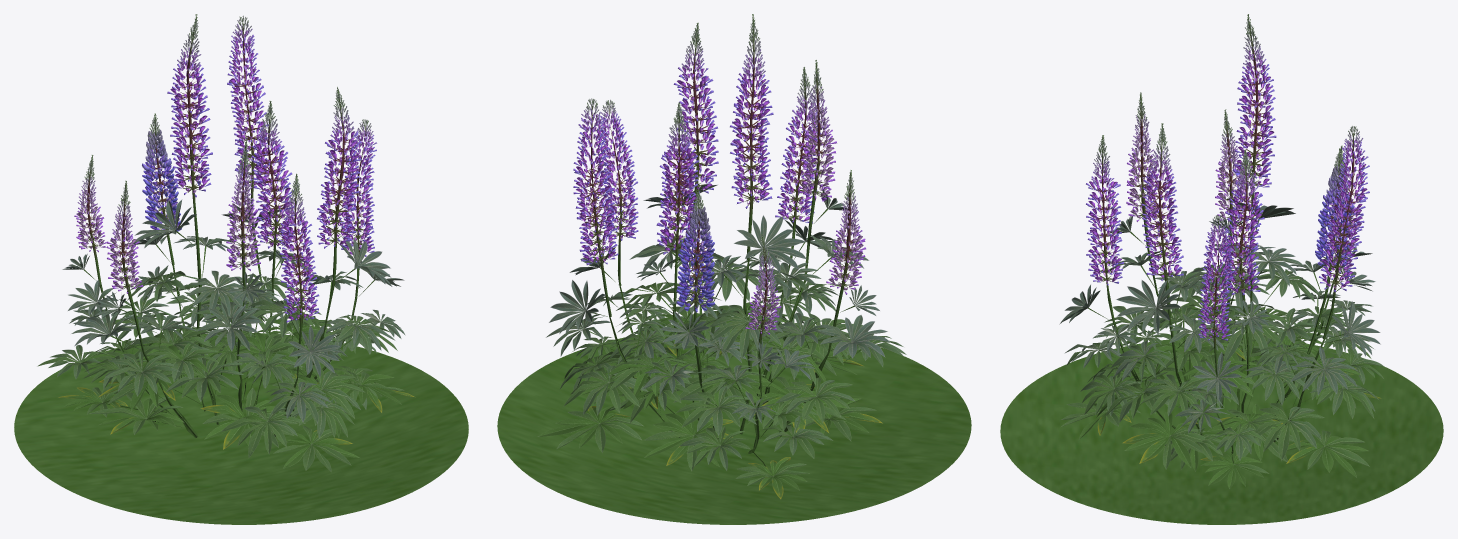
Rendered from realistic_hd_large-leaved_lupine_918.glb.
The picture shows the model from 3 angles, left to right: view 1: azimuth 30°, elevation 25°; view 2: azimuth 150°, elevation 25°; view 3: azimuth 270°, elevation 25°; orthographic projection. The views are drawn at different scales.
Parts seen in each view (by area): view 1: EcoSuelo, Lupinus_polyphyllus_HD_Lupinus leaflet 02_0, Lupinus_polyphyllus_HD_Lupinus leaflet 03_0, Lupinus_polyphyllus_HD_Lupin pet U 01_0, Lupinus_polyphyllus_HD_Lupinus leaflet 04_0, Lupinus_polyphyllus_HD_Lupinus bloom stalk 01_0, Lupinus_polyphyllus_HD_Lupinus leaflet 05_0, Lupinus_polyphyllus_HD_Lupinus leaflet 01_0, Lupinus_polyphyllus_HD_Lupin pet D 01_0, Lupinus_polyphyllus_HD_Lupin pet U 01 purple_0, Lupinus_polyphyllus_HD_Lupinus stalk 01_0, Lupinus_polyphyllus_HD_Lupinus leaflet 01 y1_0 (+10 smaller); view 2: EcoSuelo, Lupinus_polyphyllus_HD_Lupinus leaflet 02_0, Lupinus_polyphyllus_HD_Lupinus leaflet 03_0, Lupinus_polyphyllus_HD_Lupin pet U 01_0, Lupinus_polyphyllus_HD_Lupinus leaflet 05_0, Lupinus_polyphyllus_HD_Lupinus leaflet 04_0, Lupinus_polyphyllus_HD_Lupinus bloom stalk 01_0, Lupinus_polyphyllus_HD_Lupinus leaflet 01_0, Lupinus_polyphyllus_HD_Lupin pet D 01_0, Lupinus_polyphyllus_HD_Lupin pet U 01 purple_0, Lupinus_polyphyllus_HD_Lupinus stalk 01_0, Lupinus_polyphyllus_HD_Lupinus leaflet 01 y1_0 (+10 smaller); view 3: EcoSuelo, Lupinus_polyphyllus_HD_Lupinus leaflet 02_0, Lupinus_polyphyllus_HD_Lupinus leaflet 03_0, Lupinus_polyphyllus_HD_Lupin pet U 01_0, Lupinus_polyphyllus_HD_Lupinus leaflet 04_0, Lupinus_polyphyllus_HD_Lupinus leaflet 05_0, Lupinus_polyphyllus_HD_Lupinus leaflet 01_0, Lupinus_polyphyllus_HD_Lupinus bloom stalk 01_0, Lupinus_polyphyllus_HD_Lupin pet D 01_0, Lupinus_polyphyllus_HD_Lupinus stalk 01_0, Lupinus_polyphyllus_HD_Lupinus leaflet 01 y1_0, Lupinus_polyphyllus_HD_Lupin pet U 01 purple_0 (+8 smaller).
Boxes of the visible parts, bbox=[...] form: EcoSuelo: bbox=[14, 333, 468, 524]; Lupinus_polyphyllus_HD_Lupinus leaflet 02_0: bbox=[37, 287, 404, 471]; Lupinus_polyphyllus_HD_Lupinus leaflet 03_0: bbox=[48, 271, 395, 438]; Lupinus_polyphyllus_HD_Lupin pet U 01_0: bbox=[170, 37, 373, 319]; Lupinus_polyphyllus_HD_Lupinus leaflet 04_0: bbox=[69, 236, 405, 422]; Lupinus_polyphyllus_HD_Lupinus bloom stalk 01_0: bbox=[82, 18, 366, 356]; Lupinus_polyphyllus_HD_Lupinus leaflet 05_0: bbox=[62, 199, 404, 377]; Lupinus_polyphyllus_HD_Lupinus leaflet 01_0: bbox=[64, 294, 401, 468]; Lupinus_polyphyllus_HD_Lupin pet D 01_0: bbox=[167, 41, 376, 322]; Lupinus_polyphyllus_HD_Lupin pet U 01 purple_0: bbox=[77, 201, 258, 290]; Lupinus_polyphyllus_HD_Lupinus stalk 01_0: bbox=[99, 247, 356, 437]; Lupinus_polyphyllus_HD_Lupinus leaflet 01 y1_0: bbox=[58, 341, 414, 449]; EcoSuelo: bbox=[497, 327, 971, 524]; Lupinus_polyphyllus_HD_Lupinus leaflet 02_0: bbox=[557, 262, 876, 485]; Lupinus_polyphyllus_HD_Lupinus leaflet 03_0: bbox=[559, 253, 906, 470]; Lupinus_polyphyllus_HD_Lupin pet U 01_0: bbox=[576, 66, 817, 262]; Lupinus_polyphyllus_HD_Lupinus leaflet 05_0: bbox=[549, 184, 890, 379]; Lupinus_polyphyllus_HD_Lupinus leaflet 04_0: bbox=[546, 235, 870, 422]; Lupinus_polyphyllus_HD_Lupinus bloom stalk 01_0: bbox=[581, 18, 855, 363]; Lupinus_polyphyllus_HD_Lupinus leaflet 01_0: bbox=[537, 302, 868, 490]; Lupinus_polyphyllus_HD_Lupin pet D 01_0: bbox=[573, 64, 821, 265]; Lupinus_polyphyllus_HD_Lupin pet U 01 purple_0: bbox=[748, 127, 863, 331]; Lupinus_polyphyllus_HD_Lupinus stalk 01_0: bbox=[609, 226, 838, 453]; Lupinus_polyphyllus_HD_Lupinus leaflet 01 y1_0: bbox=[588, 331, 882, 499]; EcoSuelo: bbox=[1000, 337, 1443, 524]; Lupinus_polyphyllus_HD_Lupinus leaflet 02_0: bbox=[1061, 293, 1383, 473]; Lupinus_polyphyllus_HD_Lupinus leaflet 03_0: bbox=[1066, 267, 1383, 460]; Lupinus_polyphyllus_HD_Lupin pet U 01_0: bbox=[1088, 63, 1367, 338]; Lupinus_polyphyllus_HD_Lupinus leaflet 04_0: bbox=[1064, 245, 1372, 433]; Lupinus_polyphyllus_HD_Lupinus leaflet 05_0: bbox=[1059, 198, 1380, 401]; Lupinus_polyphyllus_HD_Lupinus leaflet 01_0: bbox=[1079, 305, 1375, 488]; Lupinus_polyphyllus_HD_Lupinus bloom stalk 01_0: bbox=[1092, 18, 1359, 382]; Lupinus_polyphyllus_HD_Lupin pet D 01_0: bbox=[1086, 61, 1369, 340]; Lupinus_polyphyllus_HD_Lupinus stalk 01_0: bbox=[1113, 247, 1335, 453]; Lupinus_polyphyllus_HD_Lupinus leaflet 01 y1_0: bbox=[1097, 334, 1380, 463]; Lupinus_polyphyllus_HD_Lupin pet U 01 purple_0: bbox=[1129, 151, 1353, 236].
Bounding box in the file's own units: 1.31 × 1.38 × 1.31.
Materials: 36 (36 with a texture image).
